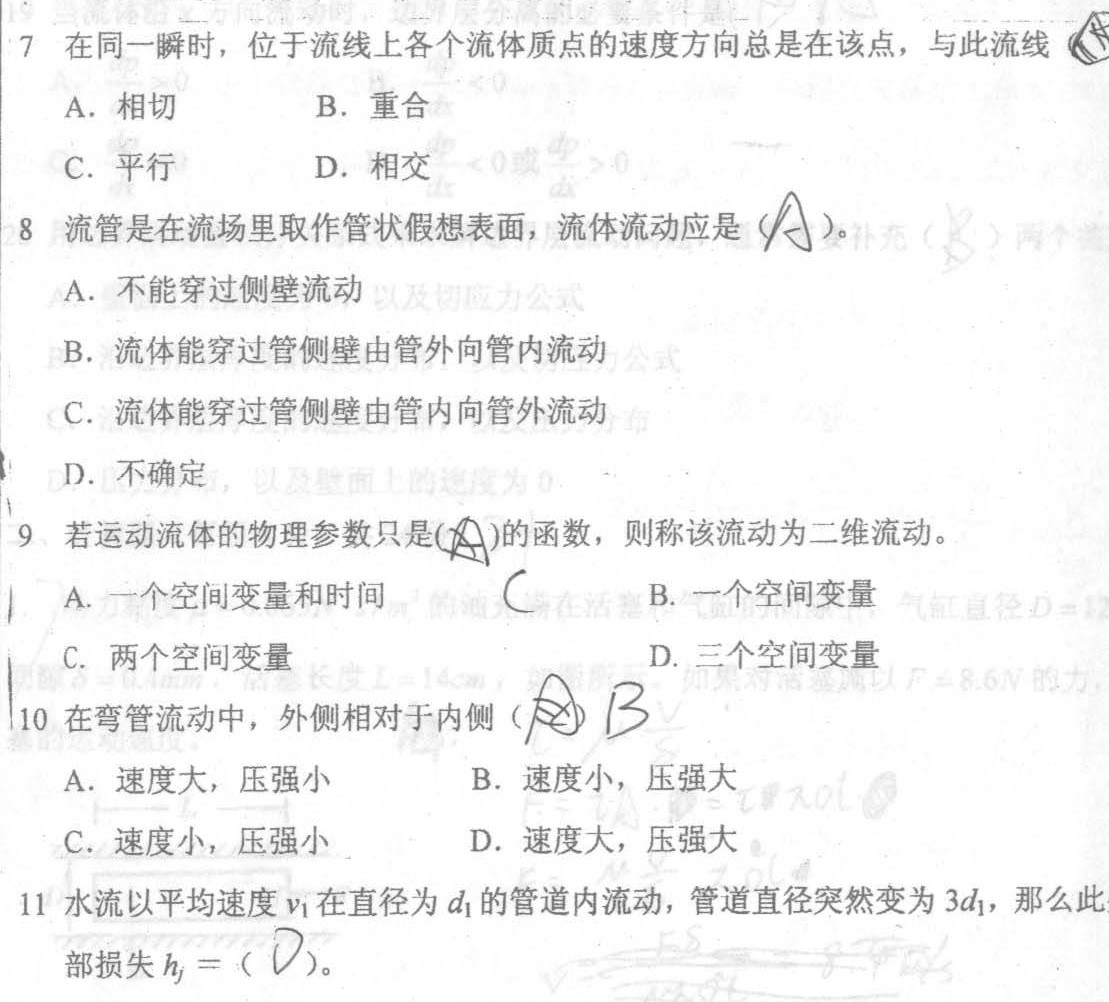text: (12, 9, 1109, 68), (15, 191, 857, 255), (8, 518, 950, 567), (56, 573, 889, 624), (15, 884, 1109, 922), (16, 690, 664, 743), (60, 759, 746, 808), (60, 821, 748, 867), (56, 638, 888, 673), (57, 391, 617, 436), (58, 331, 617, 367), (67, 929, 346, 1000), (57, 87, 439, 124), (57, 152, 447, 187), (64, 270, 363, 312), (60, 455, 212, 491)
